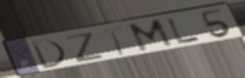5: (198, 7, 235, 40)
D: (28, 38, 68, 70)
L: (166, 17, 203, 45)
M: (125, 17, 177, 54)
T: (99, 24, 126, 57)
Z: (64, 31, 106, 64)
